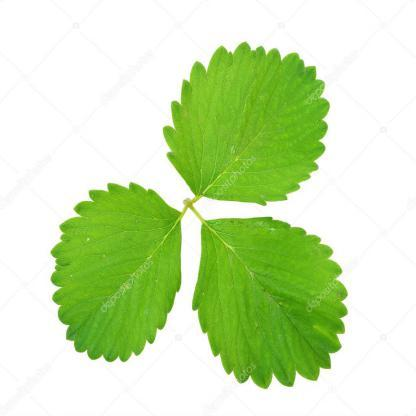Strawberry leaf: (189, 210, 354, 394), (167, 23, 334, 204), (42, 169, 184, 370)
